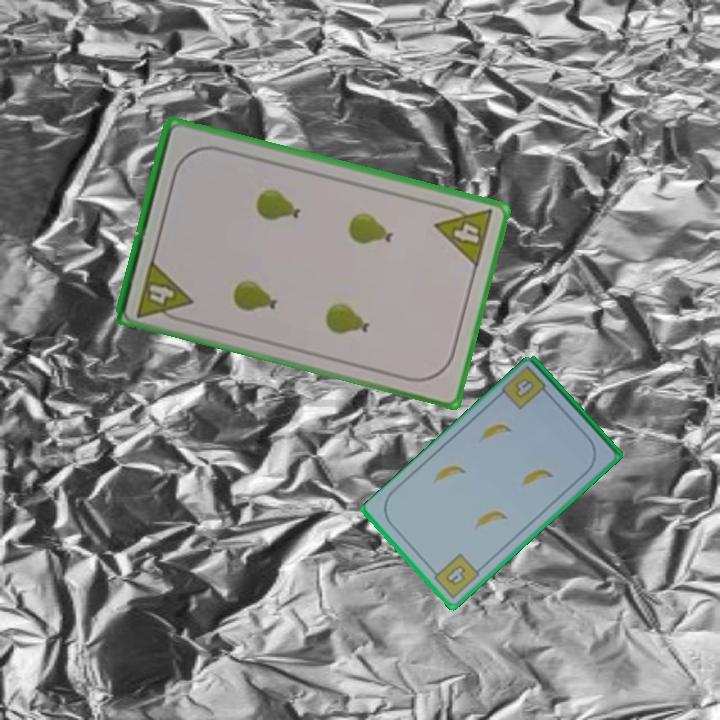4b: (427, 550, 482, 602), (513, 377, 535, 400)
4p: (431, 199, 496, 271), (133, 256, 195, 325)
